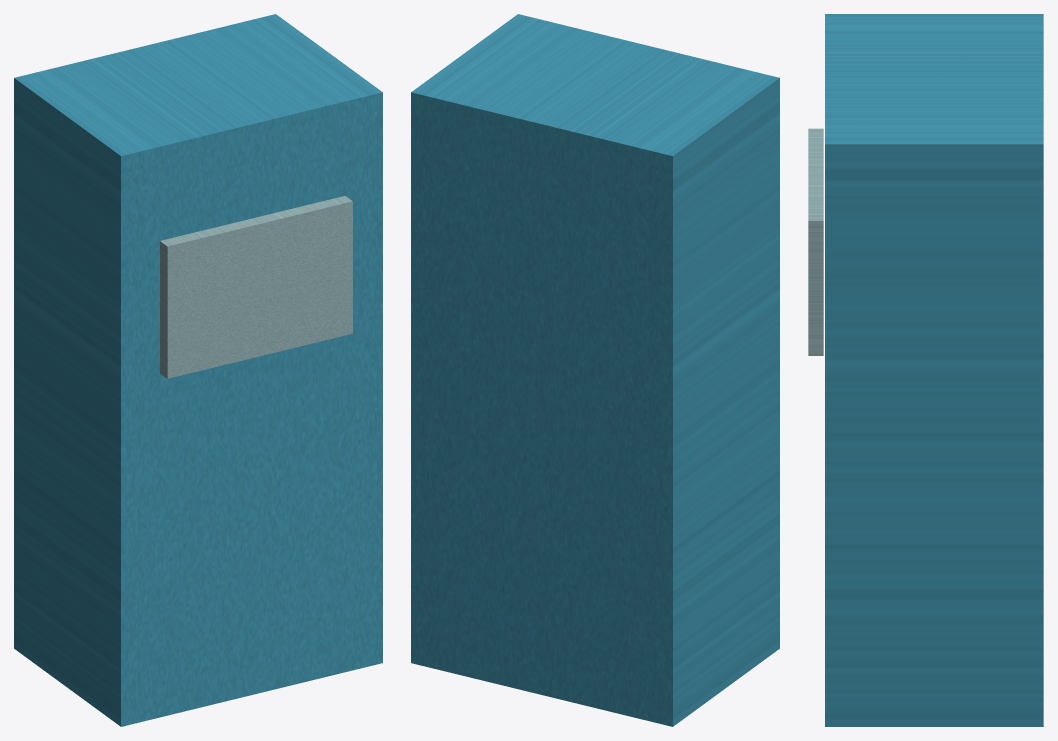
Rendered from atm_kiosk_lod2.glb.
3 renders of one model, left to right at view 1: azimuth 30°, elevation 25°; view 2: azimuth 150°, elevation 25°; view 3: azimuth 270°, elevation 25°, orthographic. The views are drawn at different scales.
Visible parts, largest first — view 1: world; view 2: world; view 3: world.
Boxes of the visible parts, left/top/right/bottom form: world: left=14, top=14, right=382, bottom=726; world: left=411, top=14, right=779, bottom=726; world: left=808, top=14, right=1043, bottom=726.
Bounding box in the file's own units: 1.2 × 2.5 × 0.915.
Materials: 2 (2 with a texture image).
